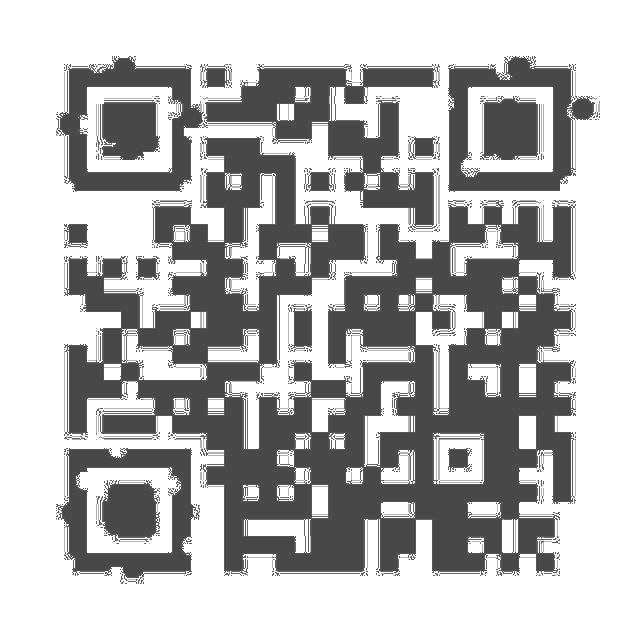qr_code: (48, 48, 600, 597)
